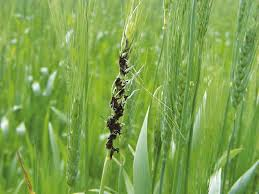Wheat Loose Smut: (103, 50, 133, 151)
